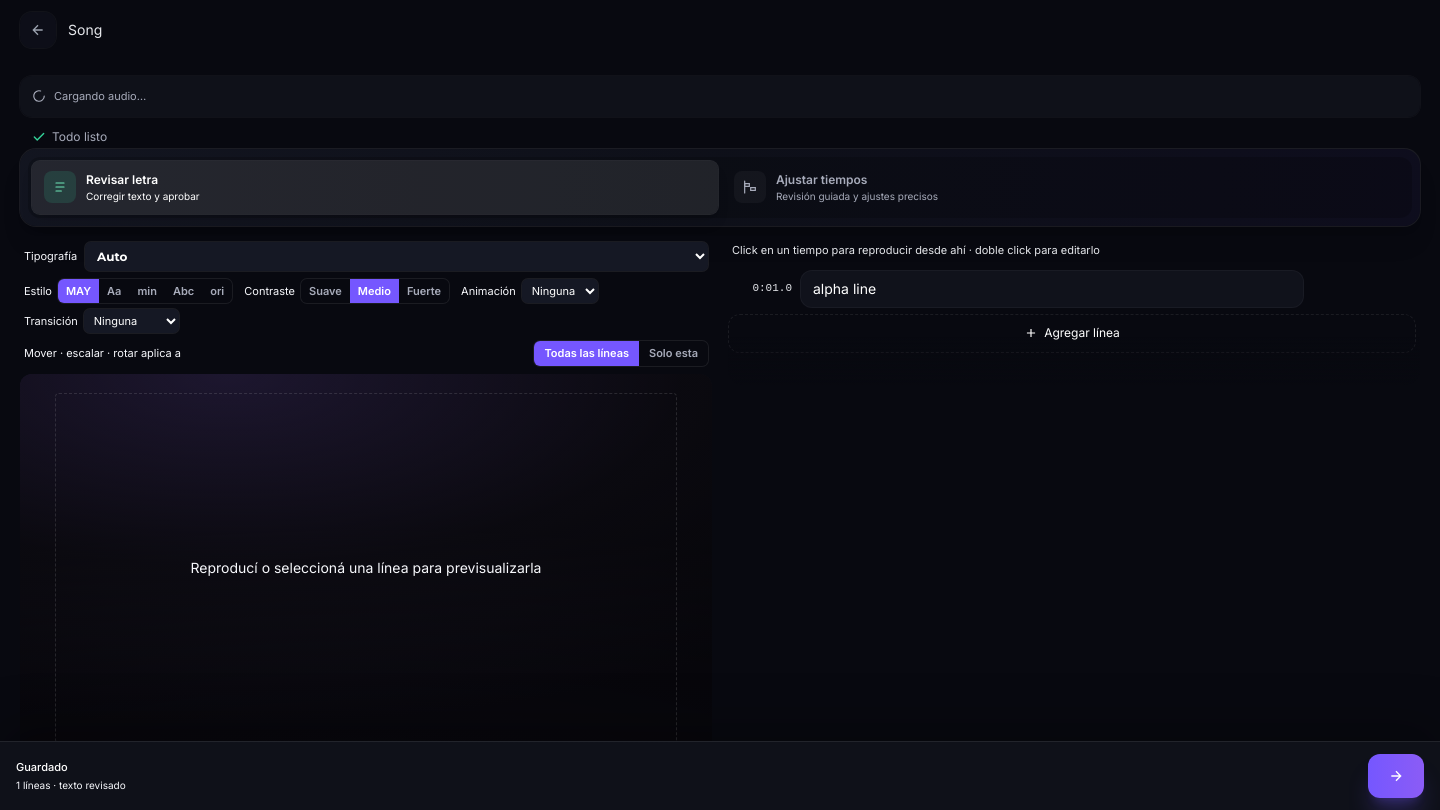
Scenario: LyricsEditor — advanced shell and timing safety › keeps the advanced shell explicit while audio is loading and offers a basic-view escape
Click the tab "Ajustar tiempos".
click(750, 187)  # box [722,160,1408,214]
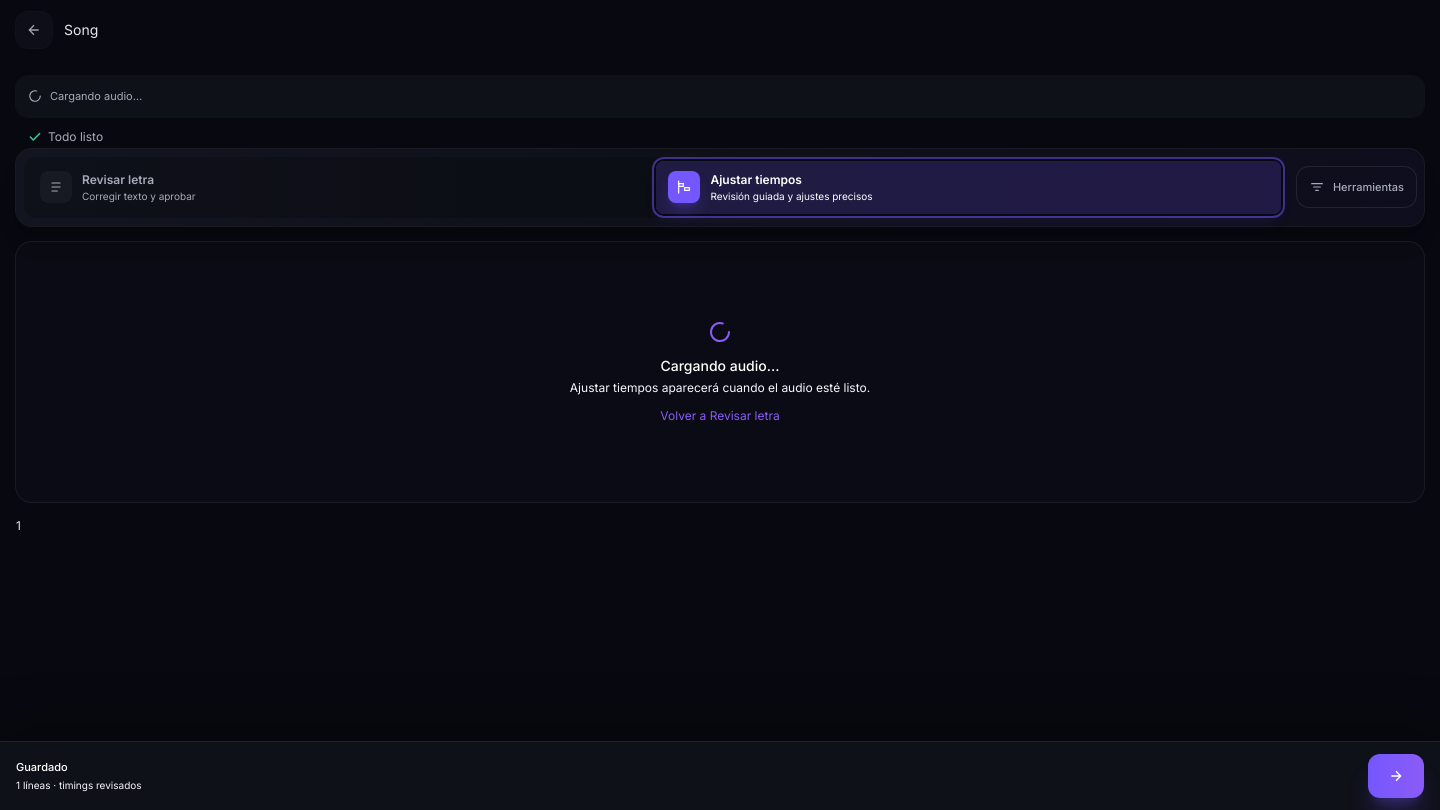
expect the field showing "alpha line" is not shown: met
expect the element with test id "advanced-workspace-shell" is shown: met, box [16,242,1424,502]
expect the element with test id "advanced-audio-loading" is shown: met, box [570,320,870,424]
Click the button "Volver a Revisar letra".
click(720, 416)  # box [660,408,780,424]
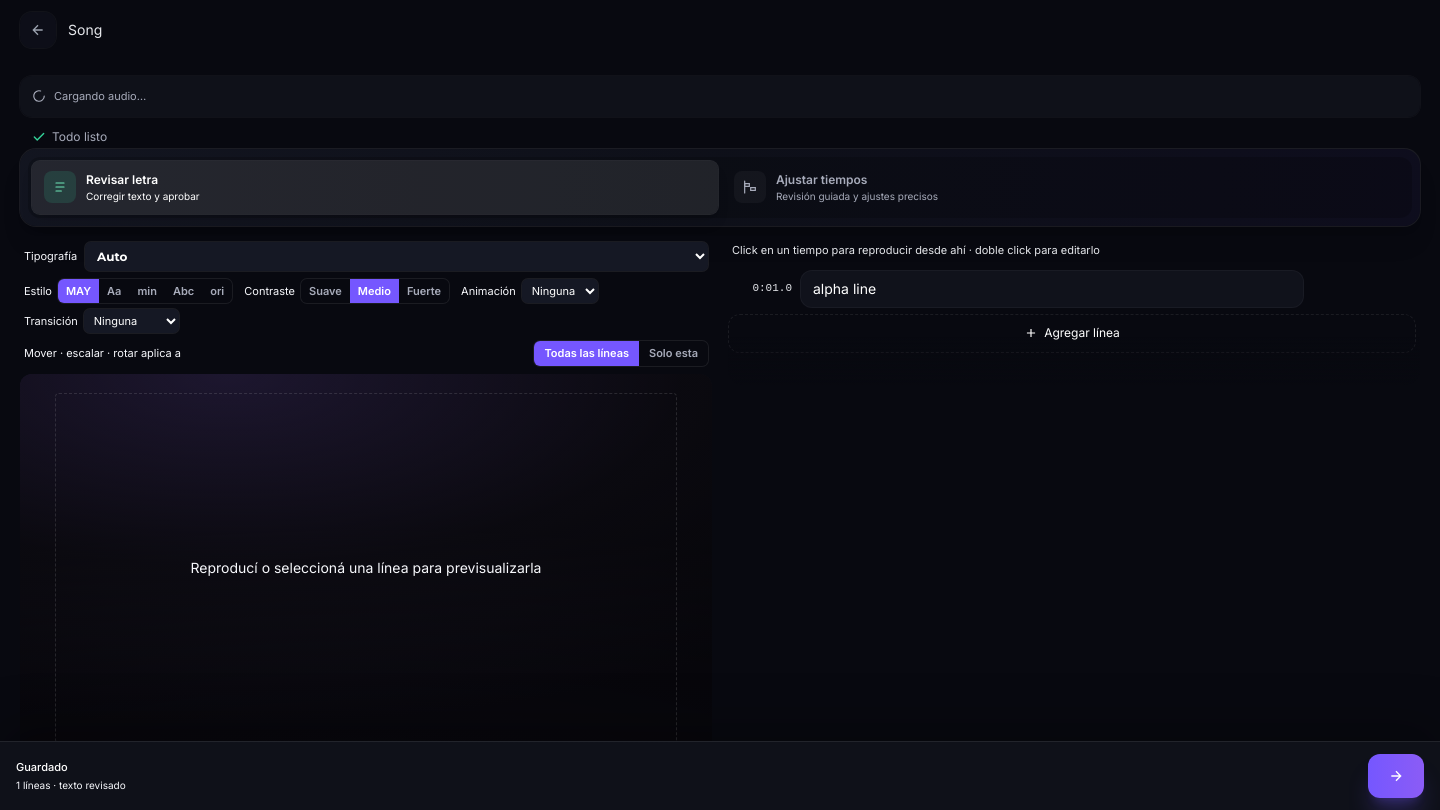
expect the field showing "alpha line" is shown: met, box [800,270,1304,308]
